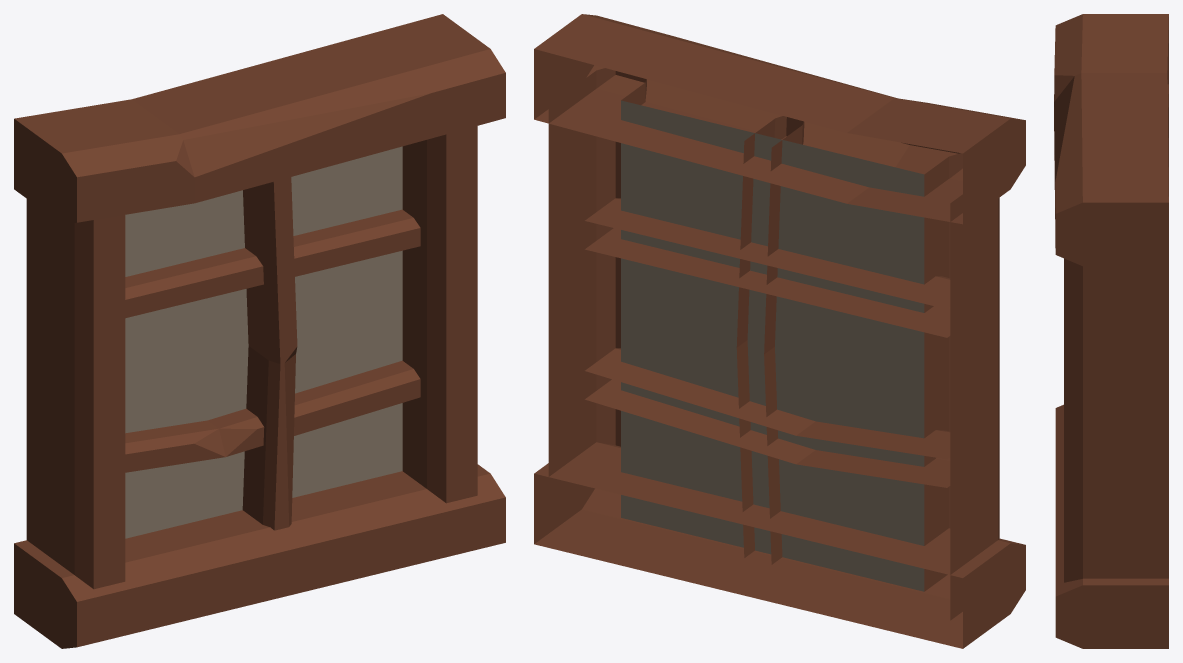
File: Window_2.fbx
3 renders of one model, left to right at view 1: azimuth 30°, elevation 25°; view 2: azimuth 150°, elevation 25°; view 3: azimuth 270°, elevation 25°, orthographic. The views are drawn at different scales.
Parts seen in each view (by area): view 1: Window_2; view 2: Window_2; view 3: Window_2.
Part boxes in pixels (x1,y1,x2,y2): Window_2: [14, 14, 505, 648]; Window_2: [534, 14, 1025, 648]; Window_2: [1054, 14, 1168, 648].
Bounding box in the file's own units: 0.774 × 0.8545 × 0.1992.
